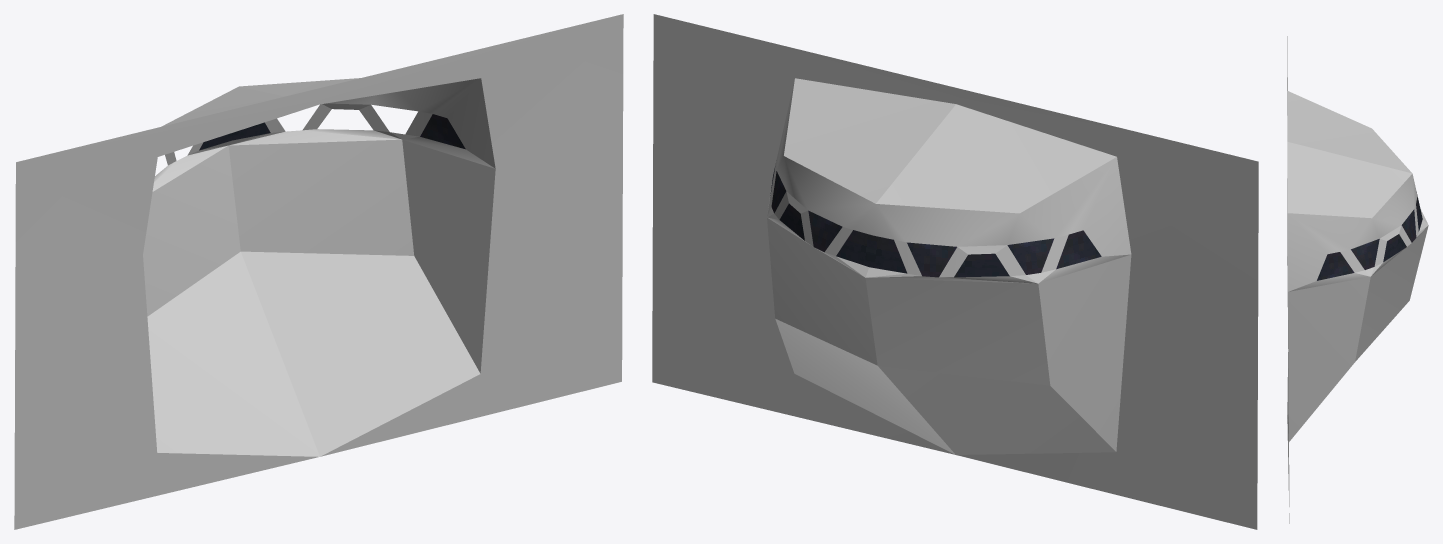
The model's file is star_destroyer_bridge_l2.fbx.
3 renders of one model, left to right at view 1: azimuth 30°, elevation 25°; view 2: azimuth 150°, elevation 25°; view 3: azimuth 270°, elevation 25°, orthographic. The views are drawn at different scales.
Visible parts, largest first — view 1: mesh_node; view 2: mesh_node; view 3: mesh_node.
Boxes of the visible parts, left/top/right/bottom form: mesh_node: left=14, top=14, right=623, bottom=529; mesh_node: left=652, top=14, right=1258, bottom=529; mesh_node: left=1287, top=36, right=1428, bottom=523.
Size of the model in its own units: 45.36 by 26.31 by 11.78.
